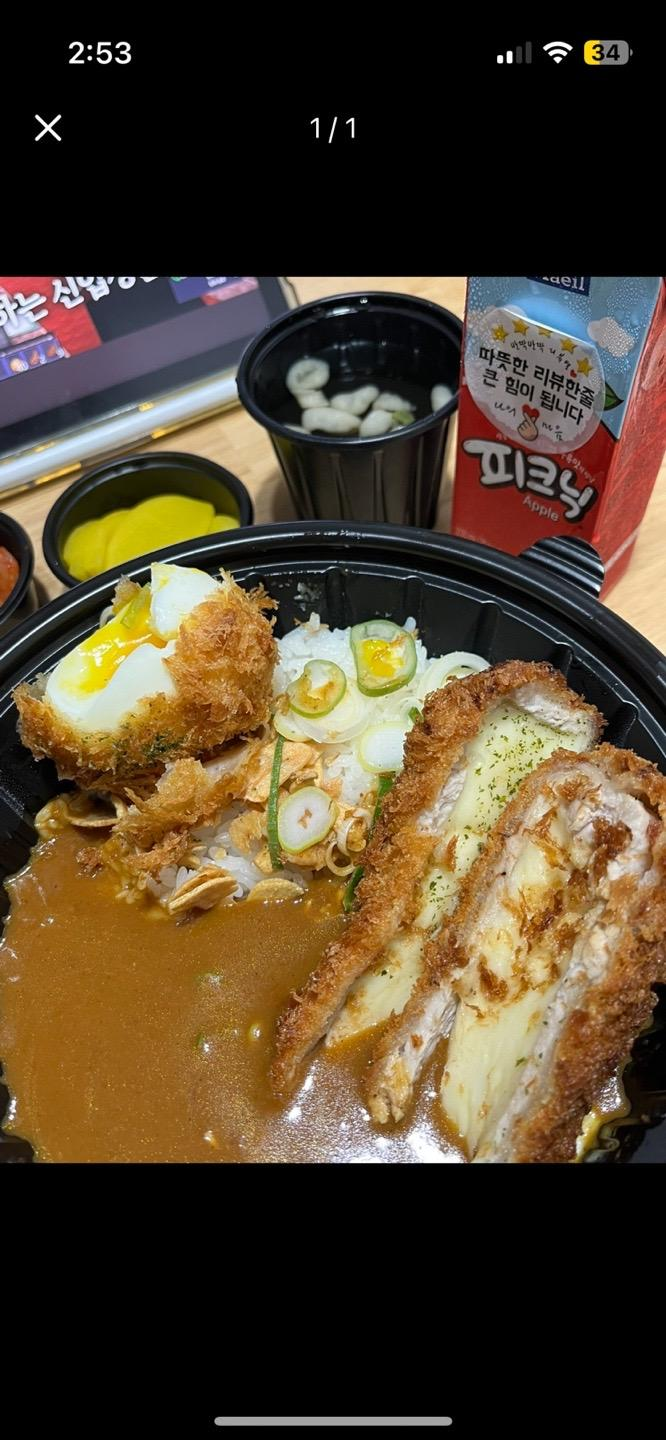Lunch Box: (0, 522, 665, 1163), (452, 273, 665, 585)
cup: (237, 292, 461, 527), (42, 451, 253, 586), (0, 514, 38, 638)
